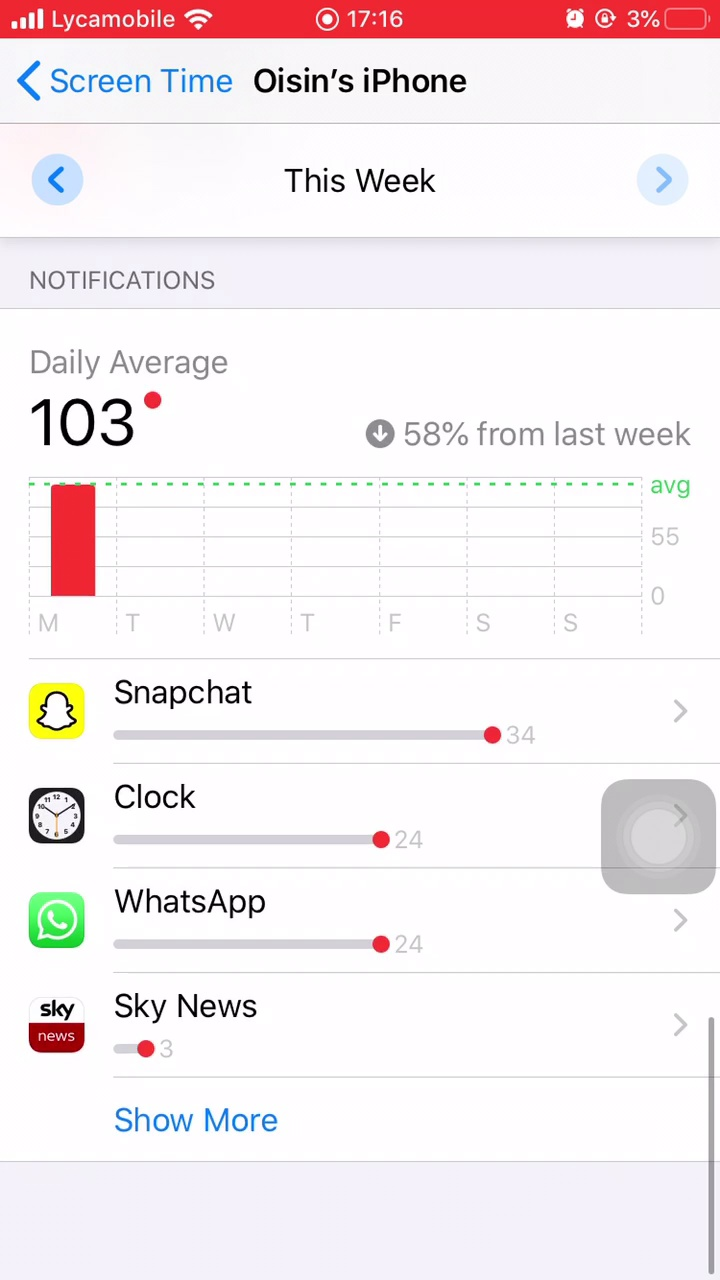not_app: (14, 663, 568, 766), (15, 767, 506, 874), (17, 875, 484, 971), (14, 971, 409, 1082)
not_over: (17, 232, 312, 457)
week: (258, 160, 440, 207)
